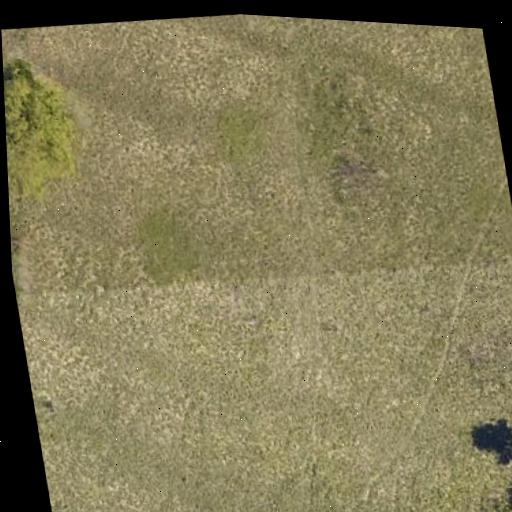tree-top: (2, 47, 96, 204), (473, 424, 512, 512), (10, 230, 39, 309)
